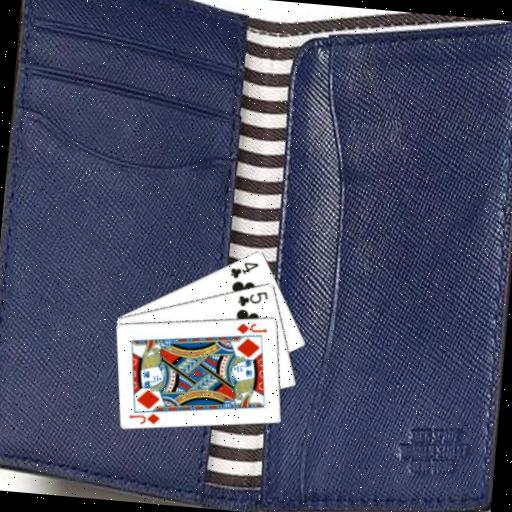4C: (227, 257, 261, 282)
5C: (235, 286, 271, 310)
JD: (126, 408, 162, 427), (234, 319, 269, 337)
